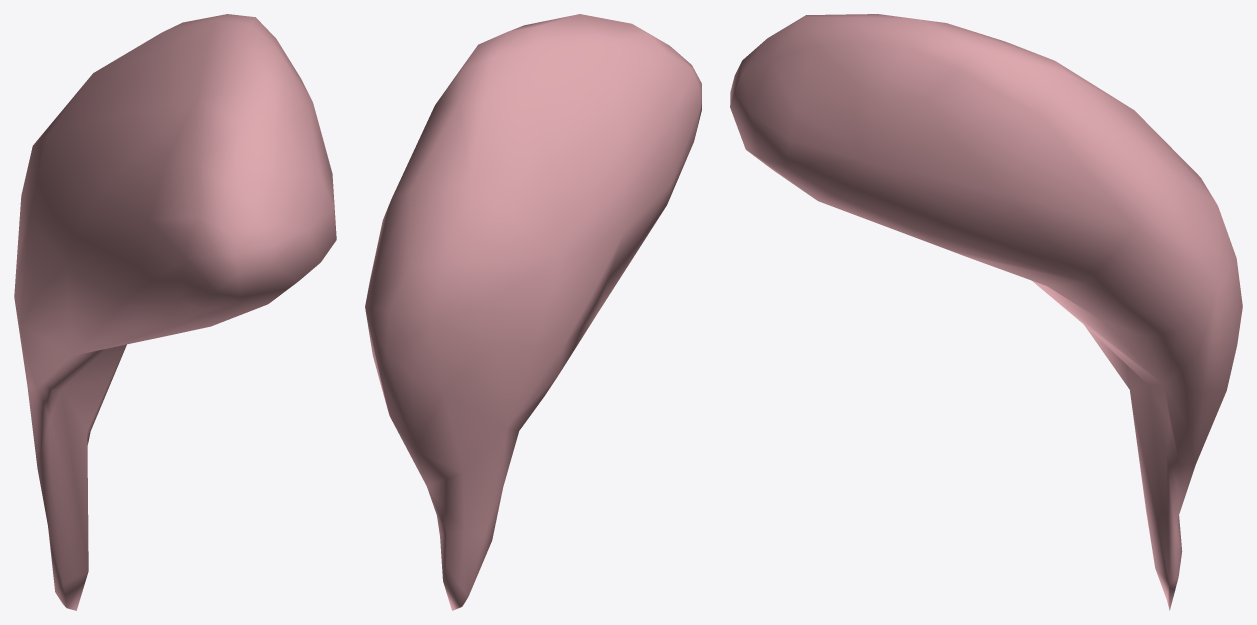
The model's file is visceras-epididymis-l.glb.
The picture shows the model from 3 angles, left to right: view 1: azimuth 30°, elevation 25°; view 2: azimuth 150°, elevation 25°; view 3: azimuth 270°, elevation 25°; orthographic projection. The views are drawn at different scales.
Visible parts, largest first — view 1: Epididymis.l; view 2: Epididymis.l; view 3: Epididymis.l.
Boxes of the visible parts, x1,y1,x2,y2 form: Epididymis.l: [14, 14, 336, 610]; Epididymis.l: [365, 14, 701, 610]; Epididymis.l: [730, 14, 1242, 610].
Bounding box in the file's own units: 0.00892 × 0.0247 × 0.0191.
